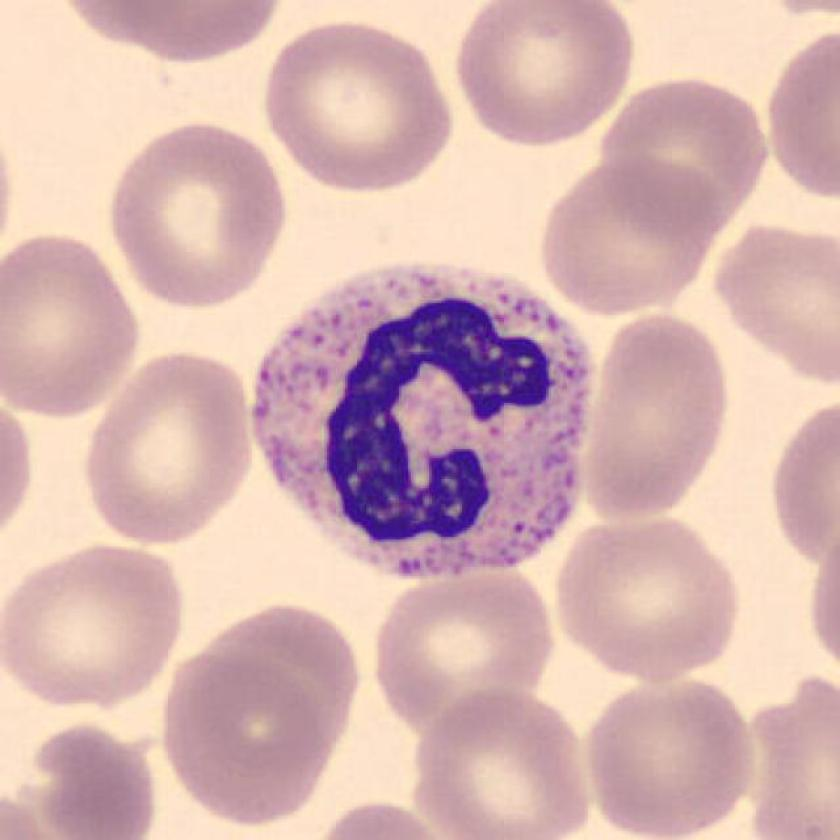neutrophil: (253, 266, 596, 576)
